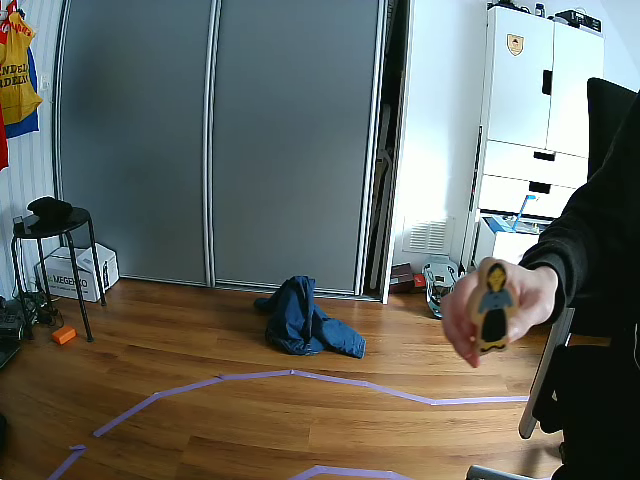mens: (468, 258, 517, 355)
